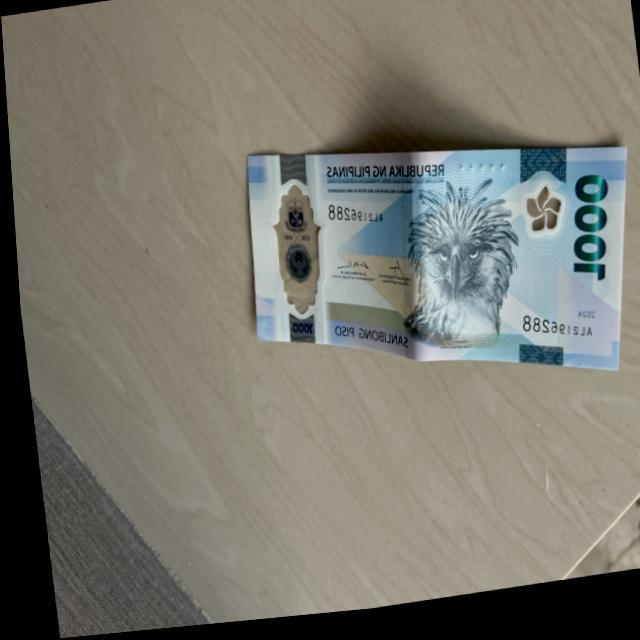clear_window: (263, 179, 329, 331)
eagle: (407, 182, 512, 369)
sampaguita: (519, 197, 560, 248)
